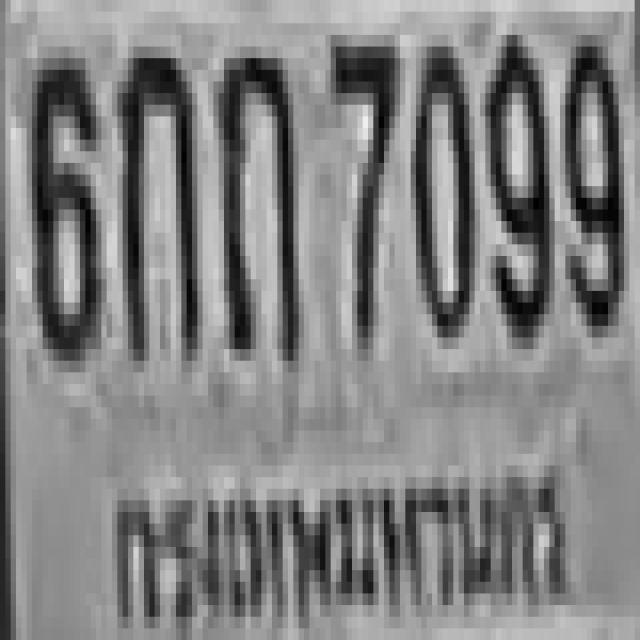0: (411, 35, 469, 326)
10GorGai: (112, 41, 197, 355)
31ThorThung: (213, 35, 299, 349)
6: (27, 47, 96, 349)
7: (325, 29, 395, 343)
9: (482, 29, 546, 332), (560, 23, 619, 326)
Bangkok: (104, 431, 572, 640)
